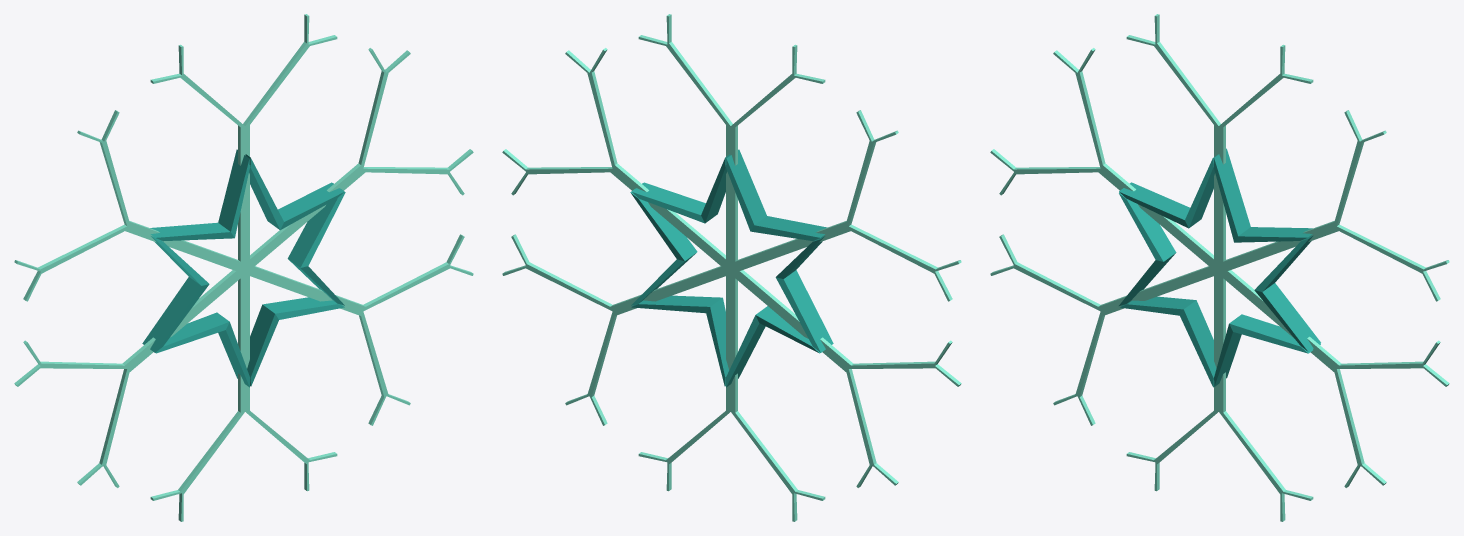
File: Snowflake.fbx
3 renders of one model, left to right at view 1: azimuth 30°, elevation 25°; view 2: azimuth 150°, elevation 25°; view 3: azimuth 330°, elevation 25°, orthographic.
Parts seen in each view (by area): view 1: Cube, Cube.001; view 2: Cube, Cube.001; view 3: Cube, Cube.001.
Part boxes in pixels (<box>): Cube: <box>14,14,473,521</box>; Cube.001: <box>142,149,345,387</box>; Cube: <box>502,14,961,521</box>; Cube.001: <box>630,149,833,387</box>; Cube: <box>990,14,1449,521</box>; Cube.001: <box>1119,148,1320,387</box>.
Size of the model in its own units: 201 by 200 by 13.27.
